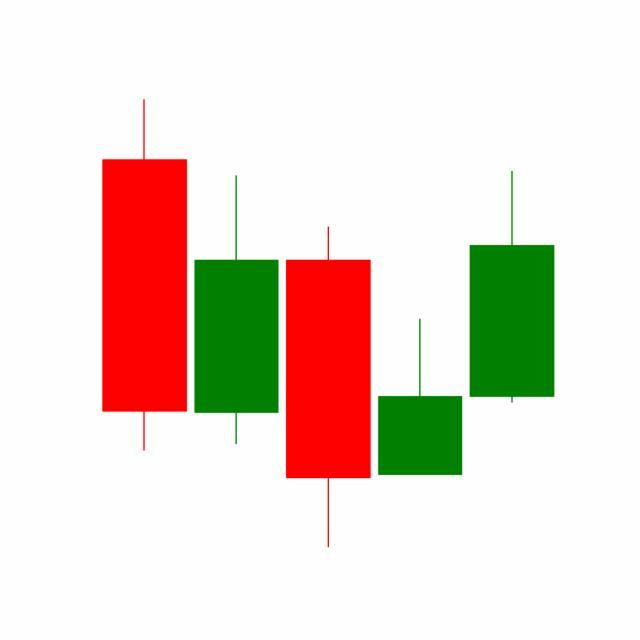Three Inside Up-Down: (280, 166, 555, 548)
